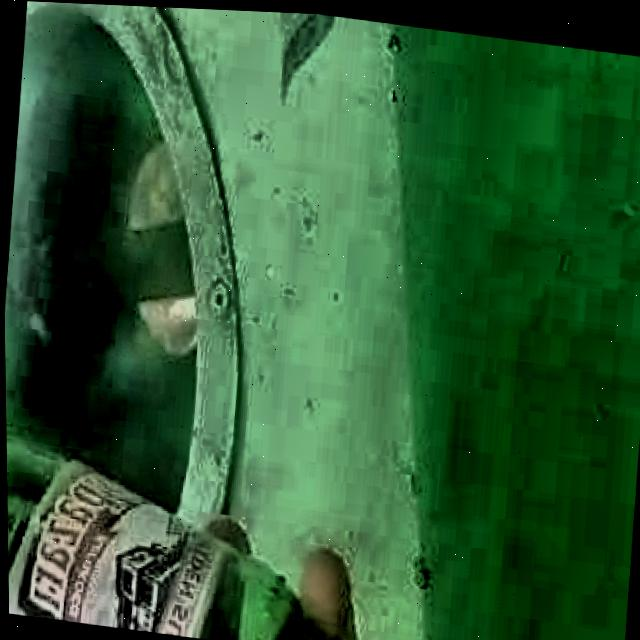glass: (5, 432, 296, 640)
